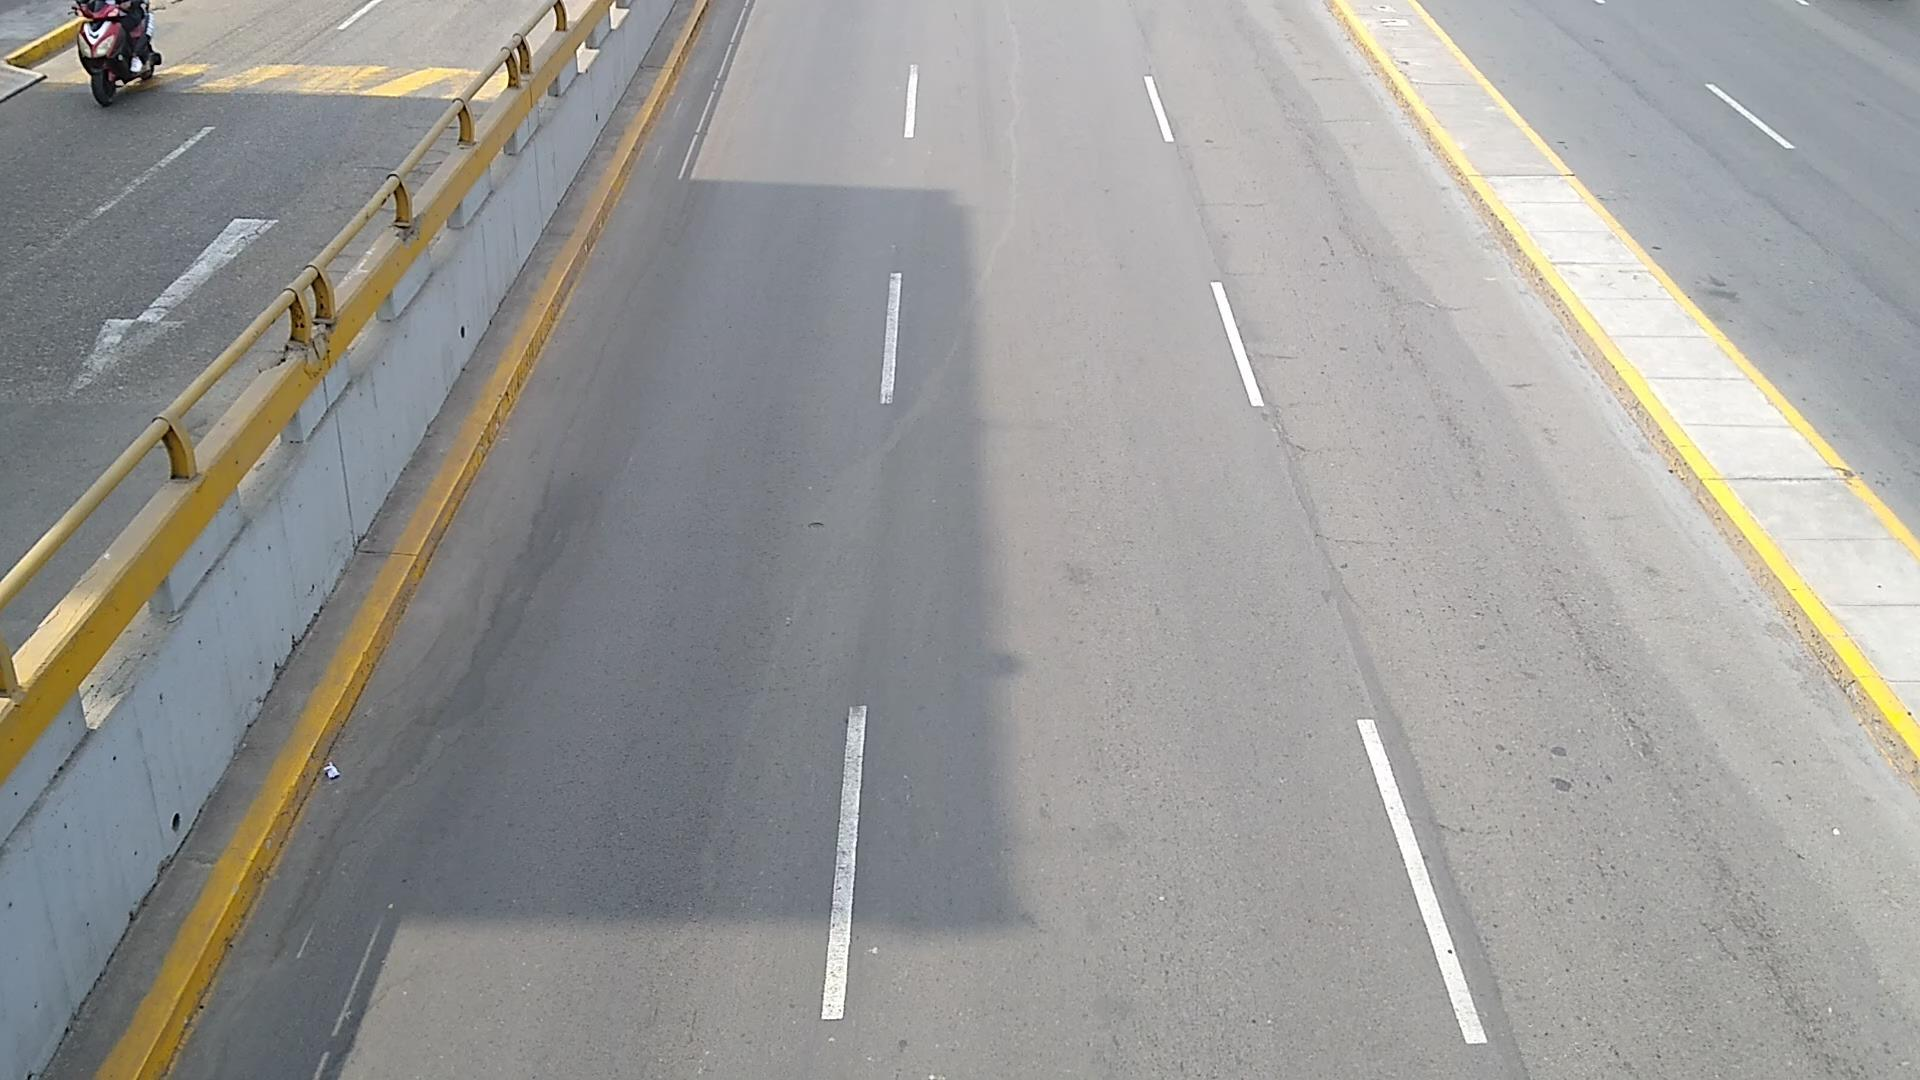motorcycle: (79, 0, 161, 105)
